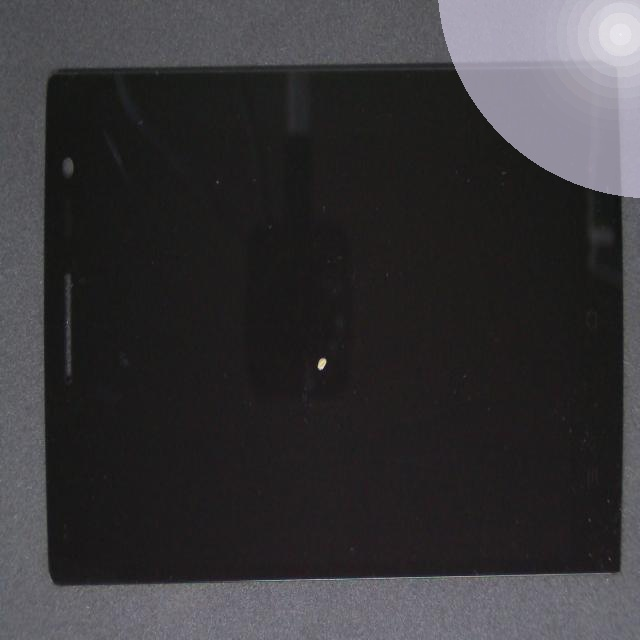stain: (126, 143, 472, 588)
